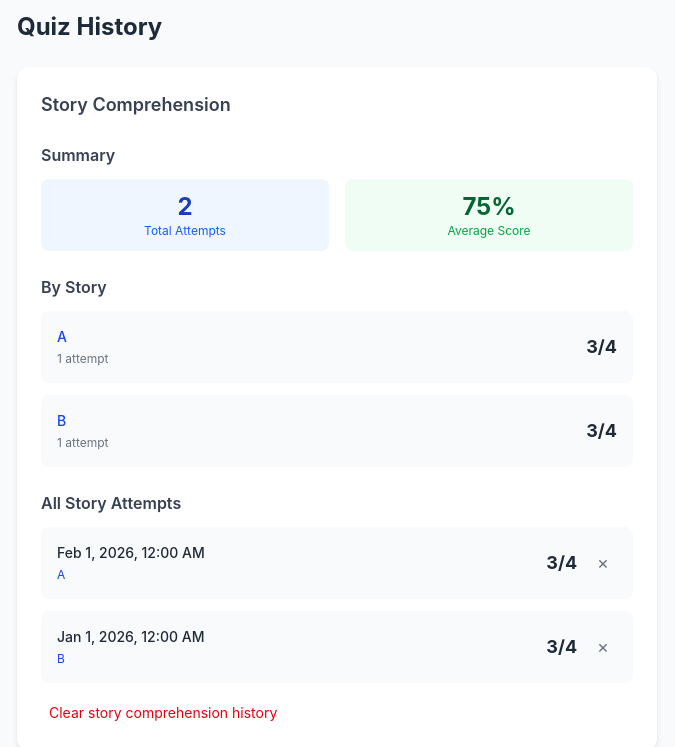
Test: HistoryPage Story Comprehension block › clicking × removes the entry and shows the undo banner
The width and height of the screenshot is (675, 747).
Click the button named "Delete attempt for A" at (603, 563), box [589,550,617,576]
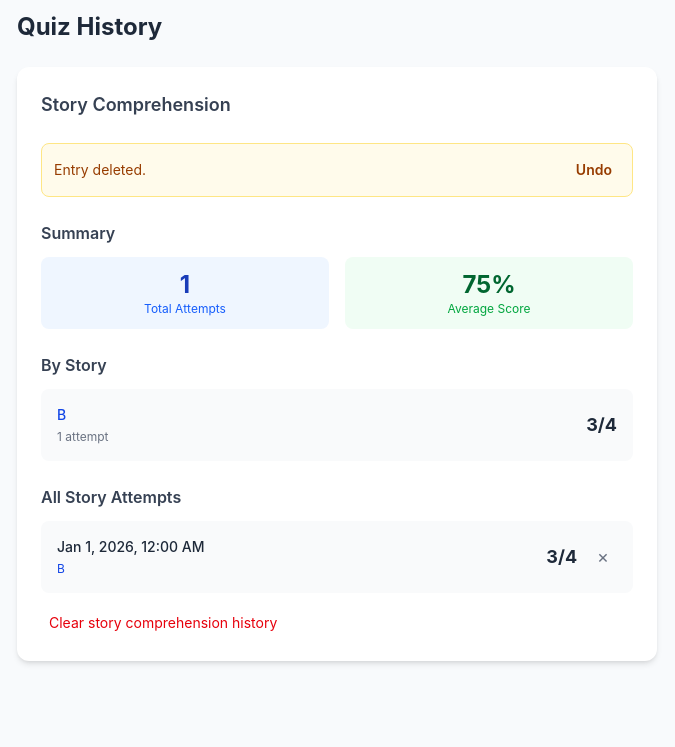
Result: the message with test id "undo-banner" shows "Entry deleted." at [54,161,146,178]
